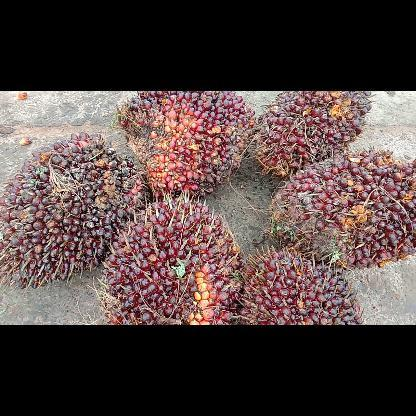Kurang masak: (0, 129, 153, 293), (99, 192, 245, 324), (266, 143, 416, 269), (111, 91, 261, 201), (246, 90, 376, 180), (233, 244, 364, 324)
